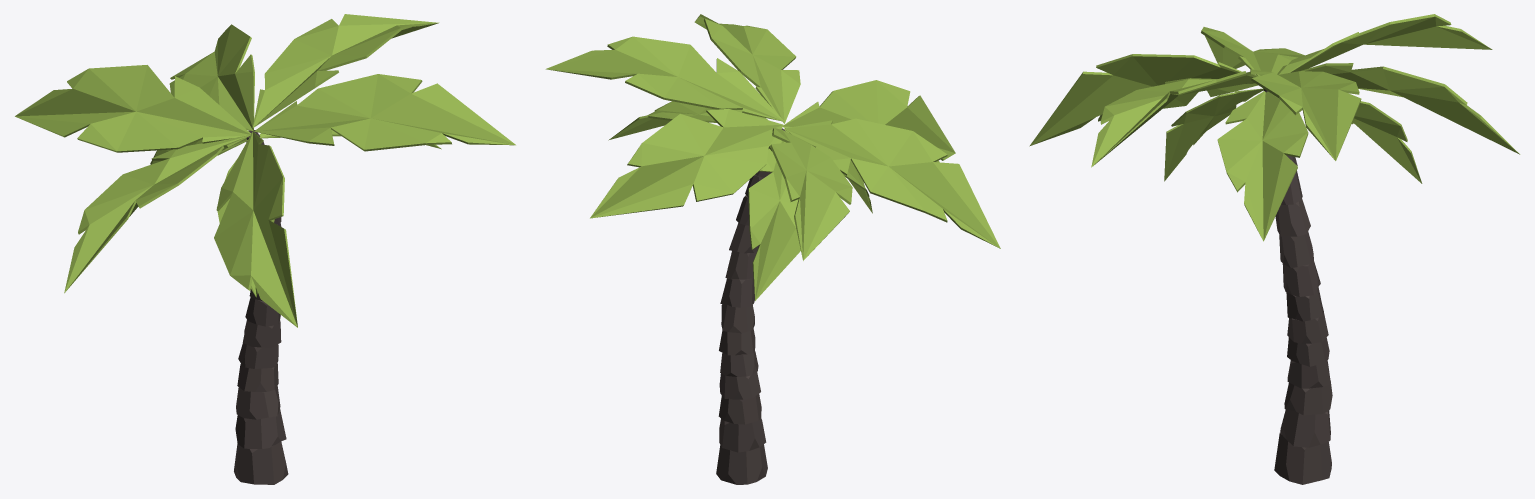
The model's file is Palm_Solo.fbx.
The picture shows the model from 3 angles, left to right: view 1: azimuth 30°, elevation 25°; view 2: azimuth 150°, elevation 25°; view 3: azimuth 270°, elevation 25°; orthographic projection. The views are drawn at different scales.
Parts seen in each view (by area): view 1: Palm_Solo; view 2: Palm_Solo; view 3: Palm_Solo.
Part boxes in pixels (bbox=[...]): Palm_Solo: bbox=[15, 14, 515, 484]; Palm_Solo: bbox=[545, 14, 1000, 484]; Palm_Solo: bbox=[1029, 14, 1520, 484].
Size of the model in its own units: 3.44 by 3.25 by 3.27.
